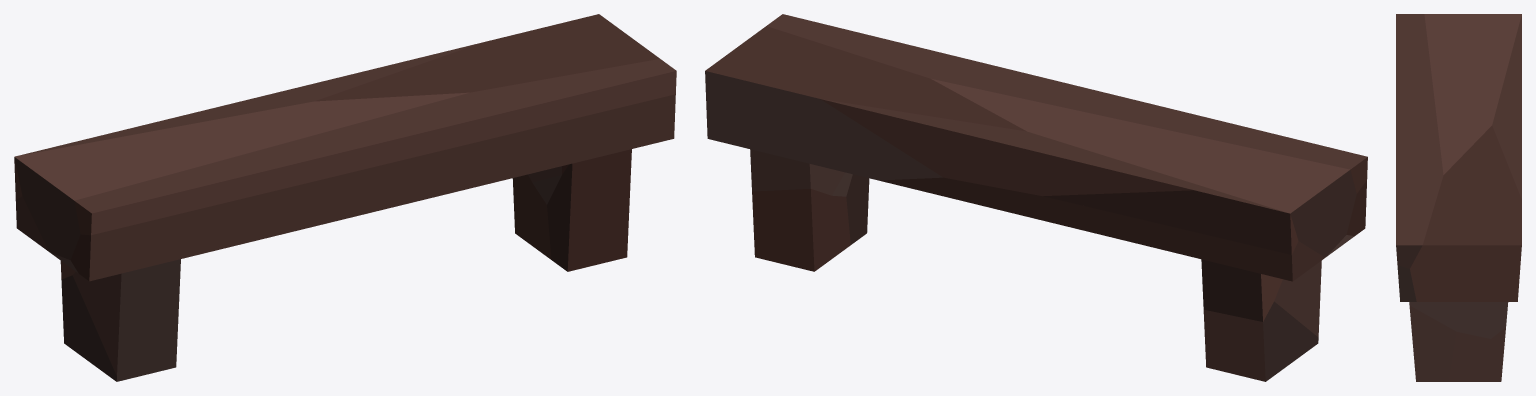
File: Decor_BenchB.fbx
3 views of the same model, side by side, from view 1: azimuth 30°, elevation 25°; view 2: azimuth 150°, elevation 25°; view 3: azimuth 270°, elevation 25° (orthographic). The views are drawn at different scales.
Visible parts, largest first — view 1: Decor_BenchB; view 2: Decor_BenchB; view 3: Decor_BenchB.
Part boxes in pixels (x1,y1,x2,y2): Decor_BenchB: (14,14,676,381); Decor_BenchB: (705,14,1367,381); Decor_BenchB: (1396,14,1521,381).
Size of the model in its own units: 197 by 59.92 by 45.2.
